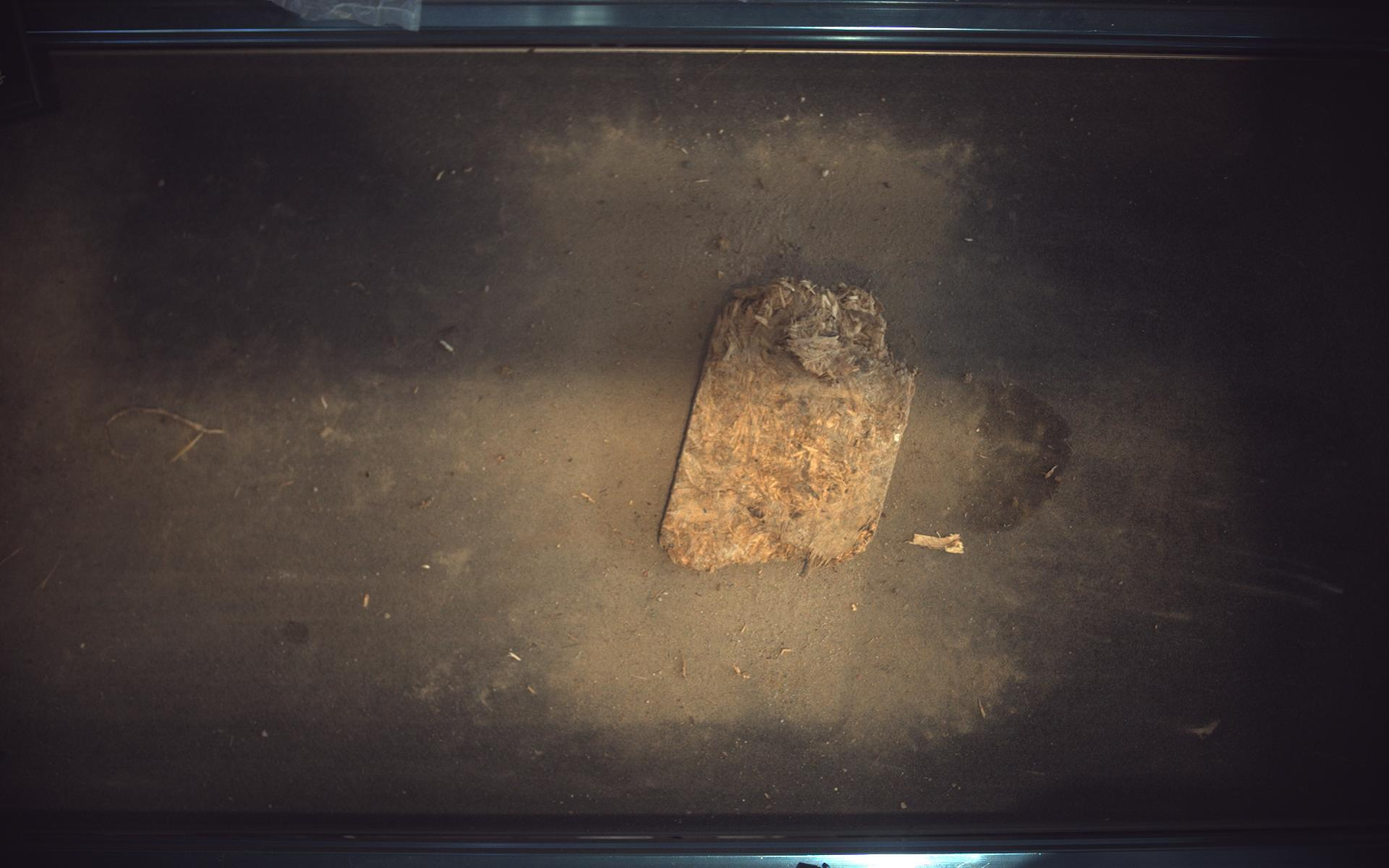wood: (660, 278, 917, 571)
